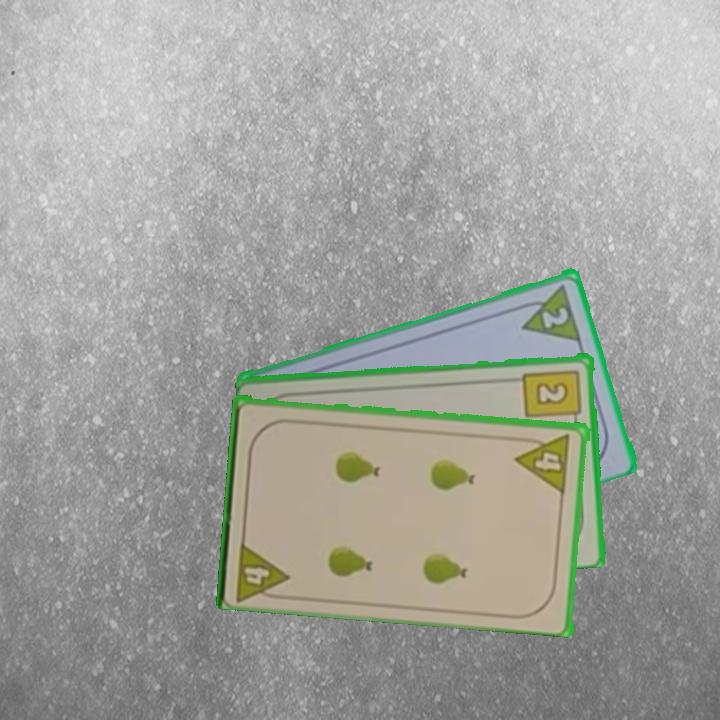2b: (520, 365, 584, 427)
2p: (513, 280, 584, 344)
4p: (232, 536, 293, 603), (514, 430, 574, 495)
